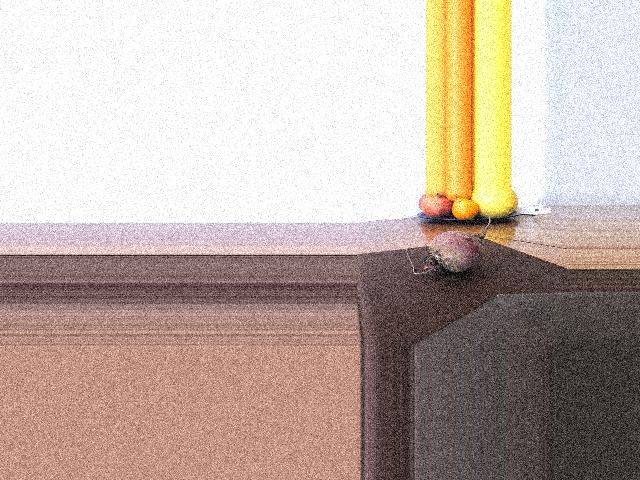beet: (406, 211, 491, 275)
